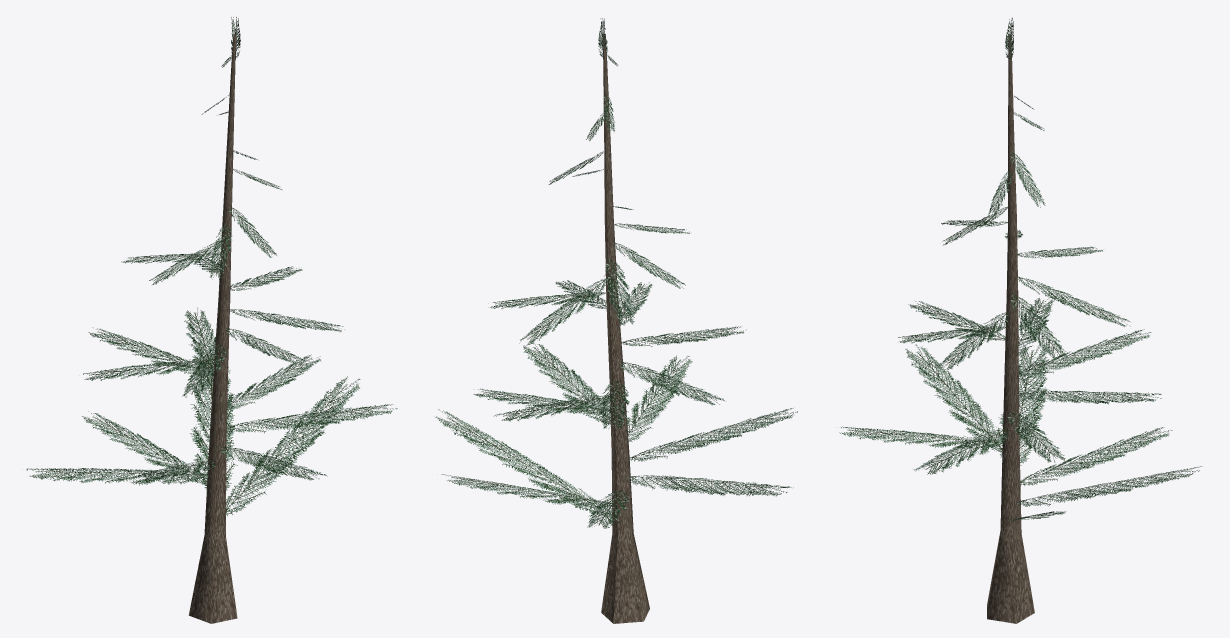
File: pinheiro_nv_b_lo.glb
3 views of the same model, side by side, from view 1: azimuth 30°, elevation 25°; view 2: azimuth 150°, elevation 25°; view 3: azimuth 270°, elevation 25° (orthographic). The views are drawn at different scales.
Visible parts, largest first — view 1: pinheiro_nv_b_lo; view 2: pinheiro_nv_b_lo; view 3: pinheiro_nv_b_lo.
Part boxes in pixels (bbox=[...]): pinheiro_nv_b_lo: bbox=[26, 17, 397, 623]; pinheiro_nv_b_lo: bbox=[435, 18, 797, 623]; pinheiro_nv_b_lo: bbox=[839, 17, 1201, 623].
Bounding box in the file's own units: 6.18 × 10.01 × 5.69.
Materials: 2 (2 with a texture image).
